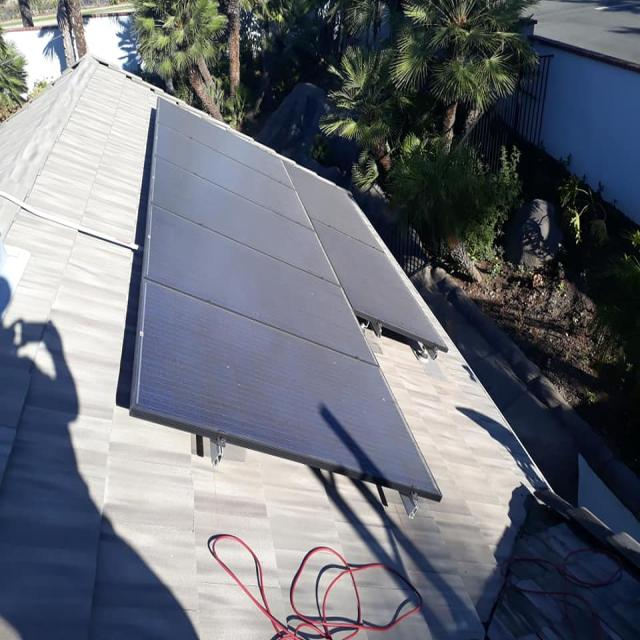dust-solar-panel: (134, 96, 442, 494)
